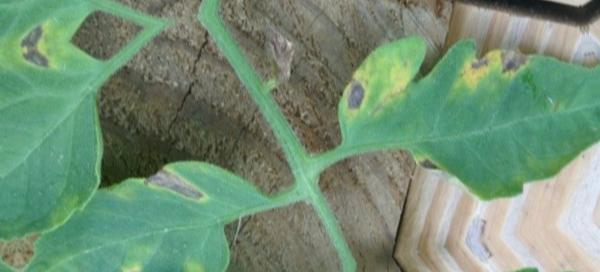Tomato leaf bacterial spot: (316, 0, 600, 246), (9, 129, 290, 272)
